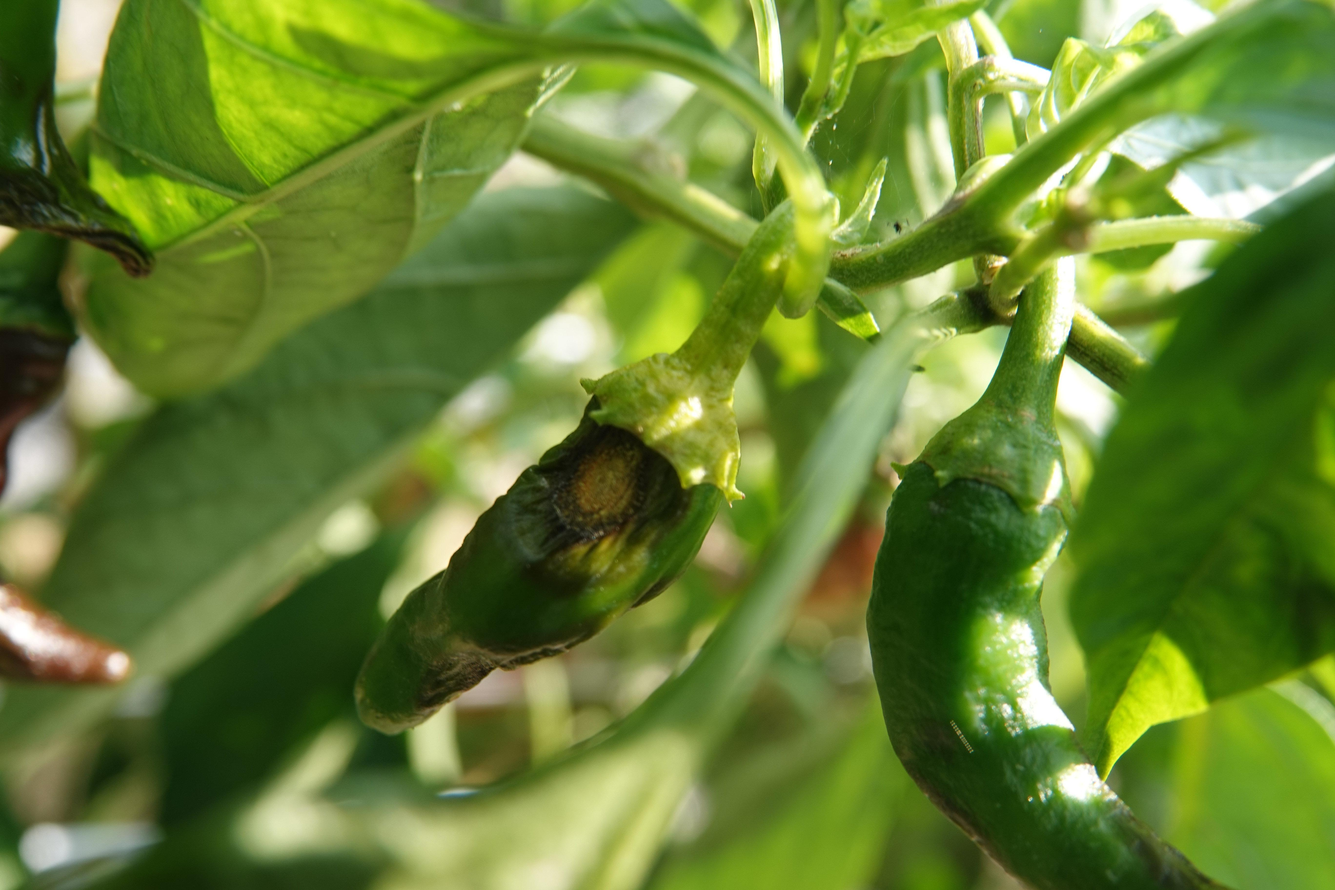Busuk Buah Antraknosa: (871, 391, 1239, 890), (349, 342, 750, 738)
